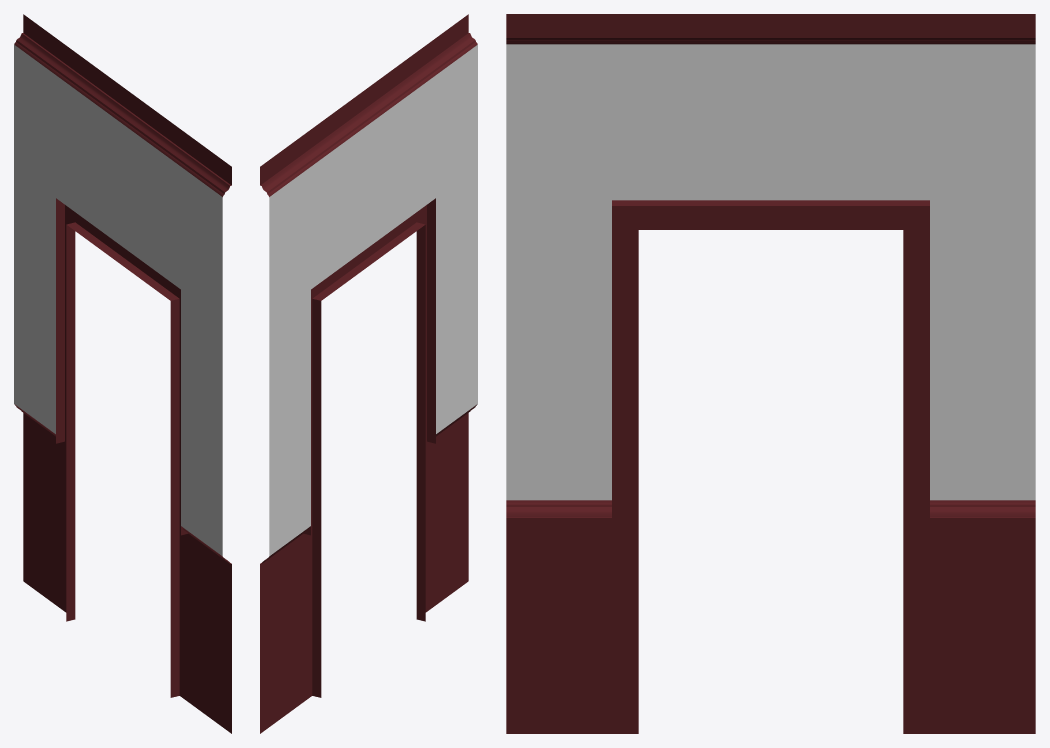
File: sm_doorway_200.fbx
3 renders of one model, left to right at view 1: azimuth 30°, elevation 25°; view 2: azimuth 150°, elevation 25°; view 3: azimuth 270°, elevation 25°, orthographic. The views are drawn at different scales.
Parts seen in each view (by area): view 1: sm_doorway_200; view 2: sm_doorway_200; view 3: sm_doorway_200.
Part boxes in pixels (x1,y1,x2,y2): sm_doorway_200: (14,14,231,733); sm_doorway_200: (260,14,477,733); sm_doorway_200: (506,14,1035,733).
Bounding box in the file's own units: 5 × 300 × 200.
